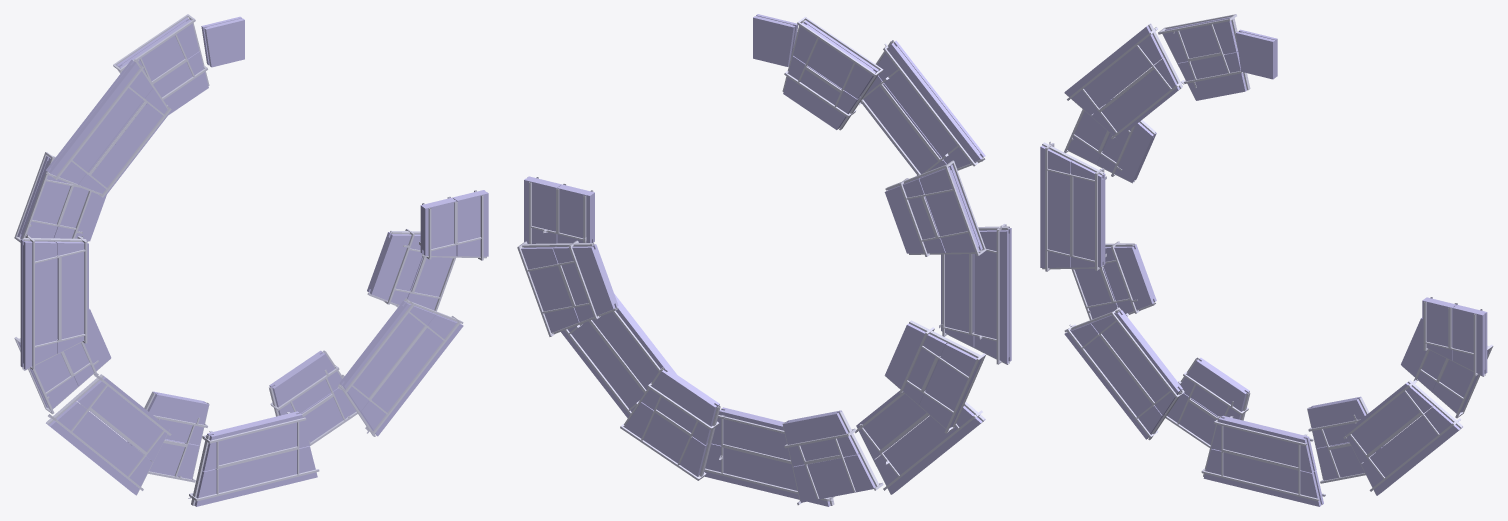
File: Extra-Wheel-SideA-cut3.glb
3 renders of one model, left to right at view 1: azimuth 30°, elevation 25°; view 2: azimuth 150°, elevation 25°; view 3: azimuth 330°, elevation 25°, orthographic. The views are drawn at different scales.
Parts seen in each view (by area): view 1: null; view 2: null; view 3: null.
Boxes of the visible parts, <box> form: null: <box>14,14,488,506</box>; null: <box>517,14,1011,506</box>; null: <box>1040,14,1493,506</box>.
Size of the model in its own units: 17.93 by 17.54 by 1.54.
